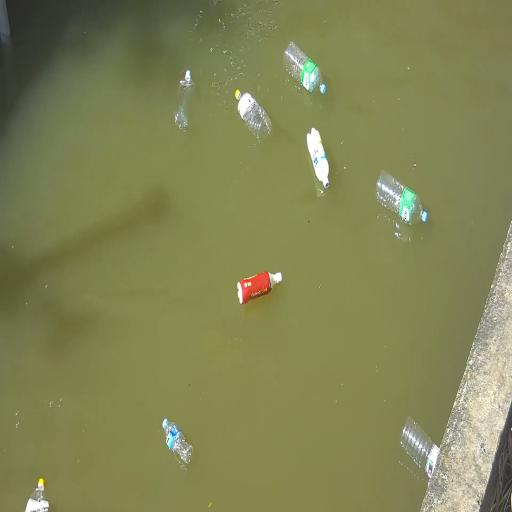plastic: (376, 167, 428, 230), (399, 414, 441, 478), (284, 42, 325, 94), (235, 90, 271, 140), (236, 271, 283, 307), (163, 419, 193, 469), (307, 128, 329, 189), (175, 70, 194, 130), (26, 479, 49, 511)
